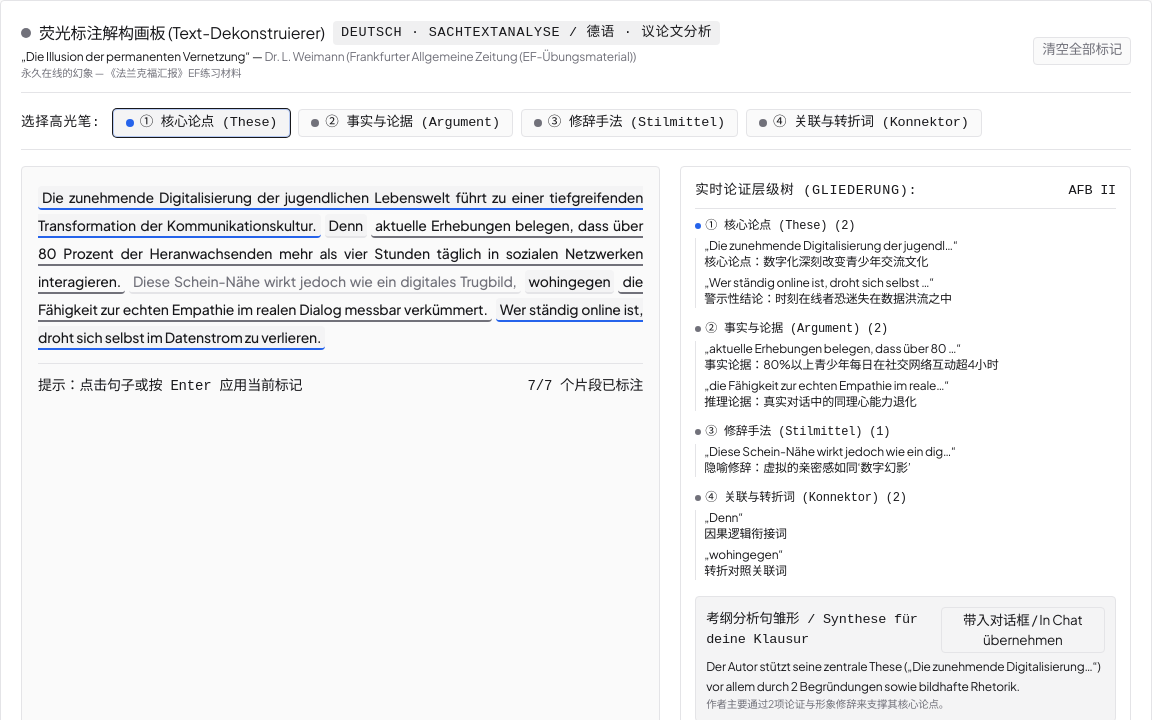
Pädagogische Komponenten (Pedagogy UI Library) › TextHighlighter › ermöglicht das Umschalten von Markierungen per Klick
Expected: the text "7/7 个片段已标注" is shown, [528,378,643,394]
What coordinates should you click on to do the following:
click the button "Die zunehmende Digitalisierung der jugendlichen Lebenswelt führt zu einer tiefgreifenden Transformation der Kommunikatio"
I would click on:
 (341, 198)
Its box is [38,186,643,238].
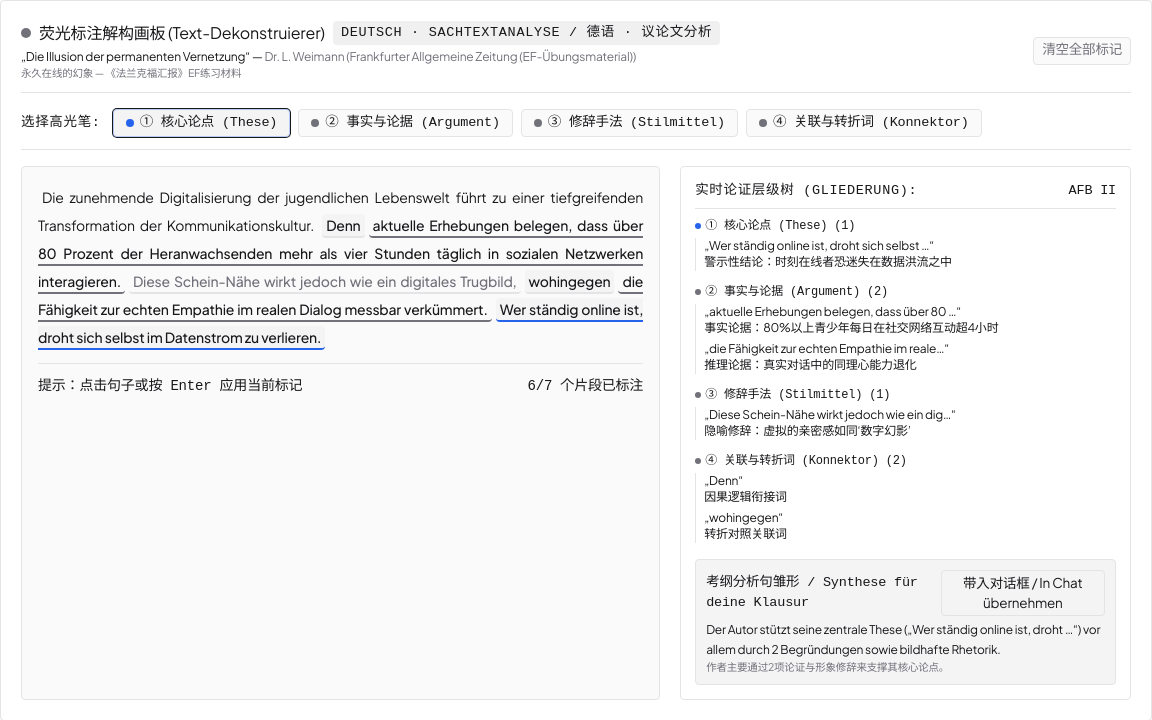
Now the text "6/7 个片段已标注" is shown, box [528,378,643,394]
